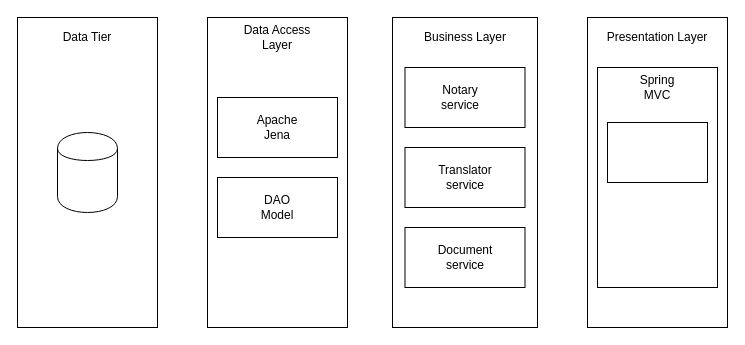
Some shapes in this 745 by 345 pixel diagram are drawn without their labels. Here are the shapes that lost their labels. From the top down, the box of each, then its label:
(56, 132, 118, 212): RDF
(606, 122, 708, 182): Rest Controller
